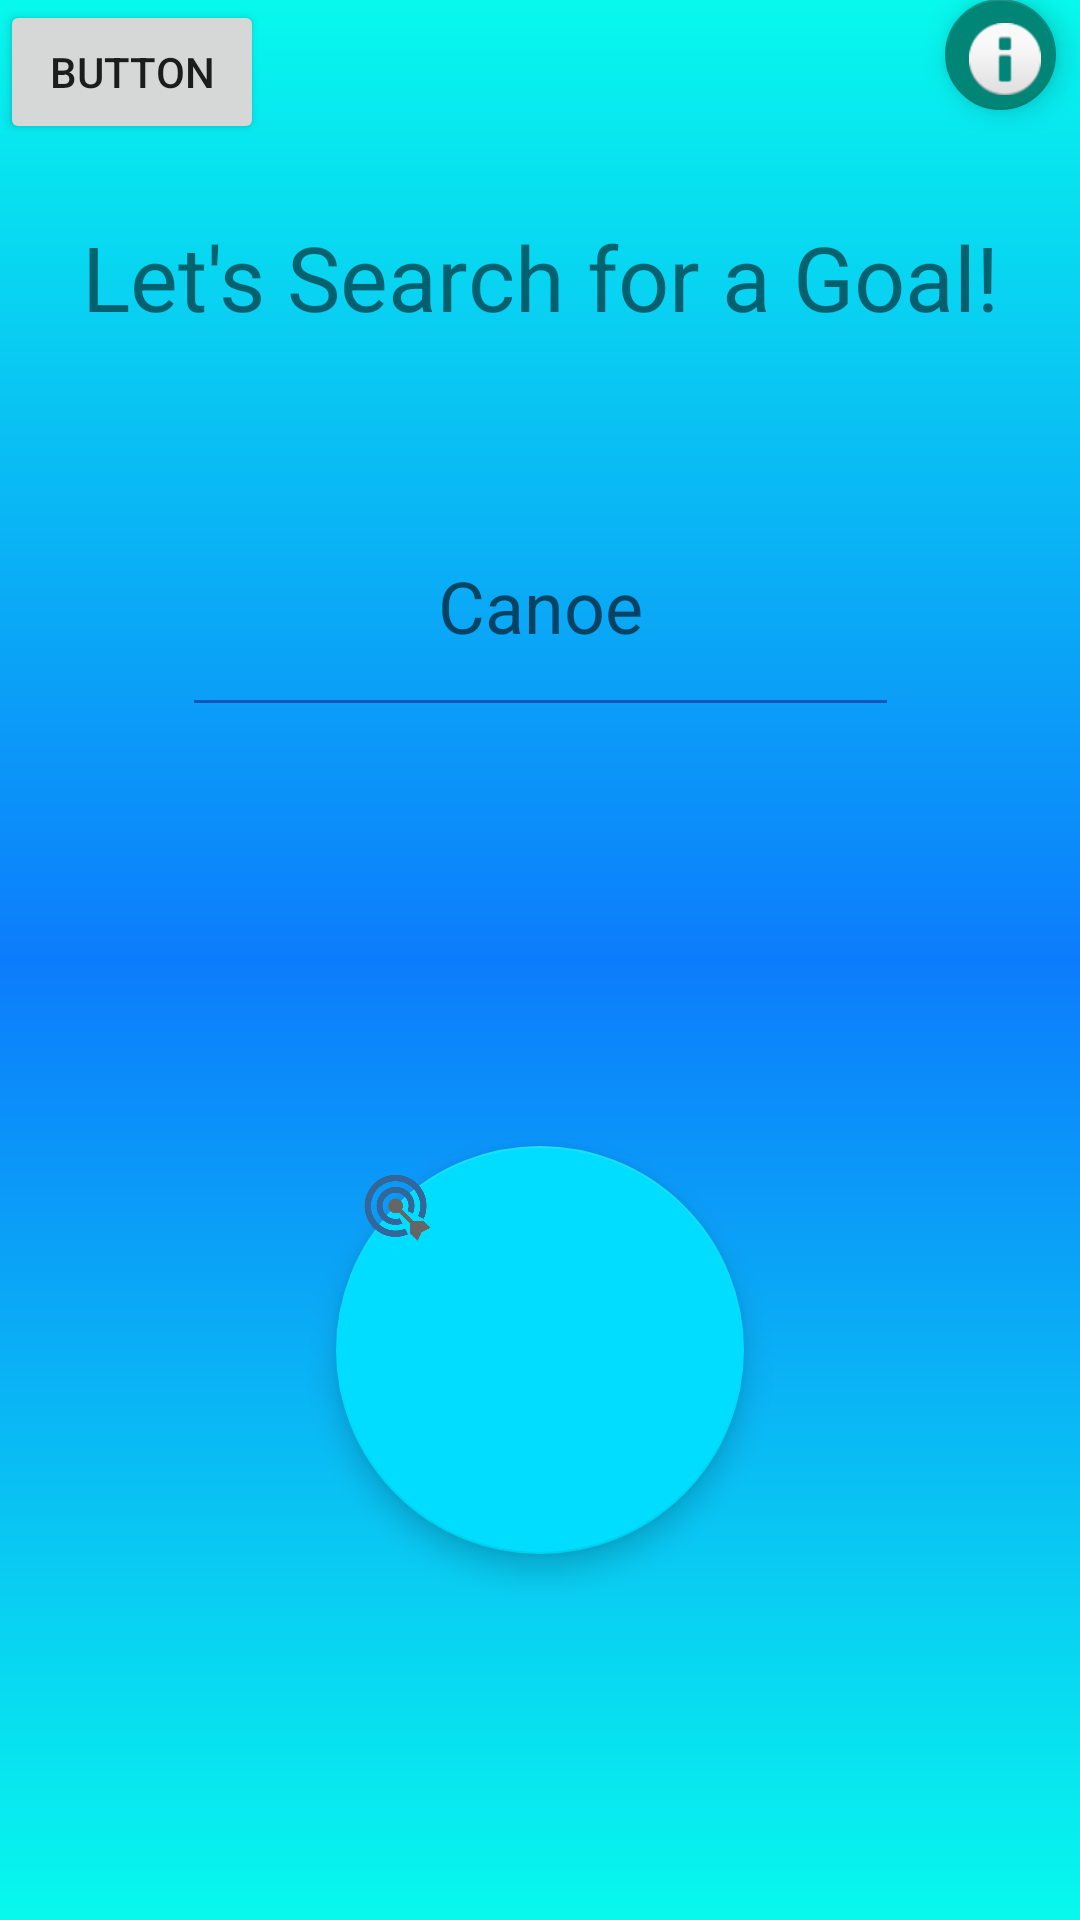

Icons on this 1080px x 1920px Android screen, each with the point to tap as (x,y):
info: (1000,55)
